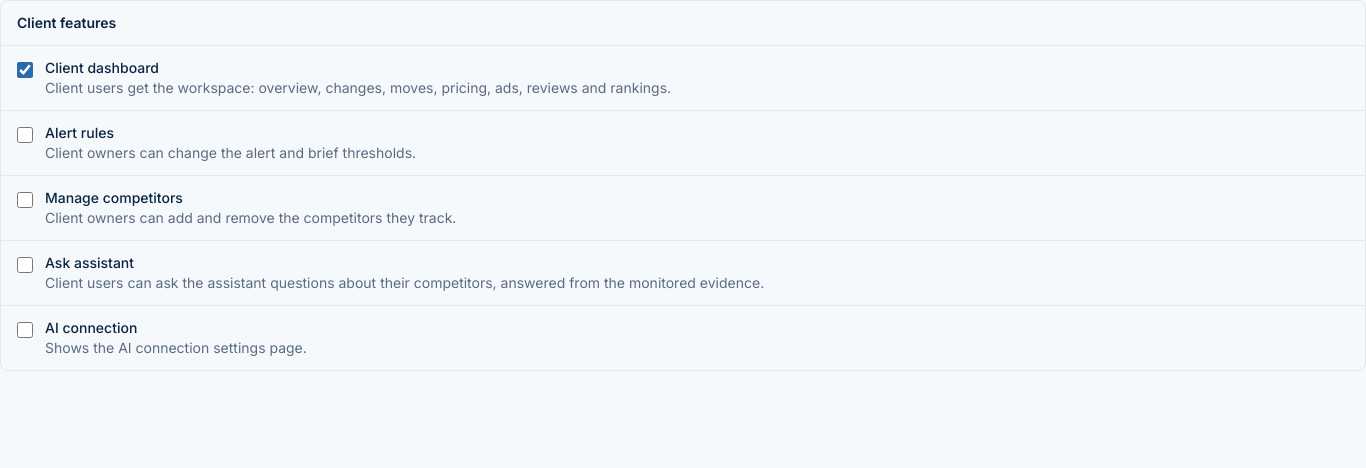
Scenario: ClientFeaturesForm › shows the current features and posts the checked ones
Expected: the checkbox labelled "Client dashboard" is checked, top-left (17, 62), bottom-right (33, 78)
Click the checkbox labelled "Alert rules". click: (25, 135)
box: top-left (17, 127), bottom-right (33, 143)
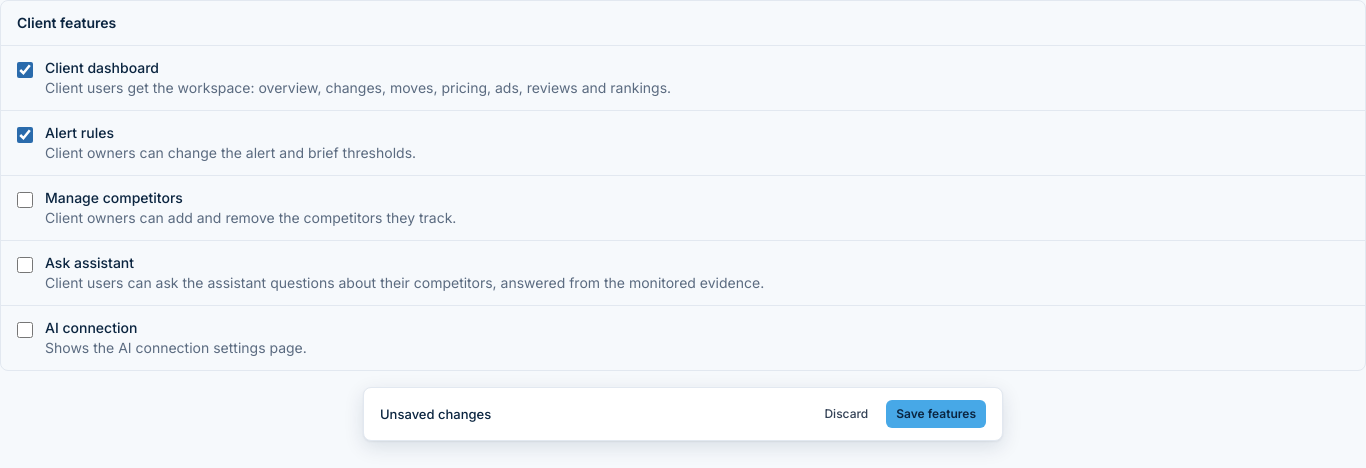
Click the checkbox labelled "Manage competitors". click: (25, 200)
box: top-left (17, 192), bottom-right (33, 208)
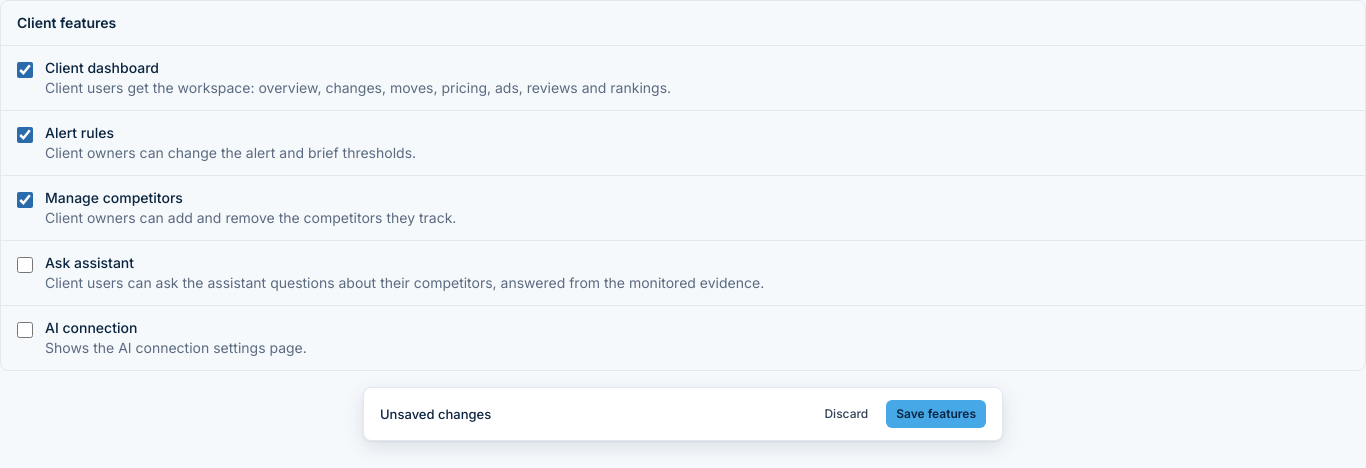
Click the button "Save features". click: (936, 414)
box: top-left (886, 400), bottom-right (986, 428)
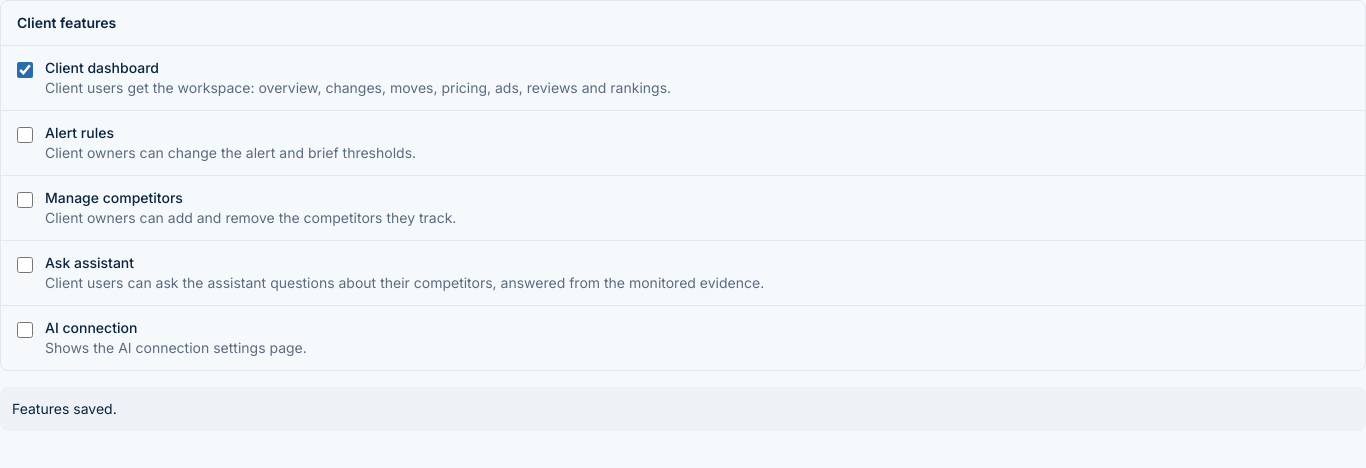
Result: the text "Features saved." is shown at top-left (0, 387), bottom-right (1365, 431)
Result: the button "Save features" is gone
